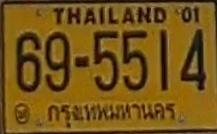1: (159, 30, 167, 90)
4: (180, 28, 205, 89)
5: (92, 31, 118, 90), (121, 30, 146, 90)
6: (15, 31, 40, 91)
9: (44, 31, 70, 91)
BKK: (45, 100, 178, 127)
